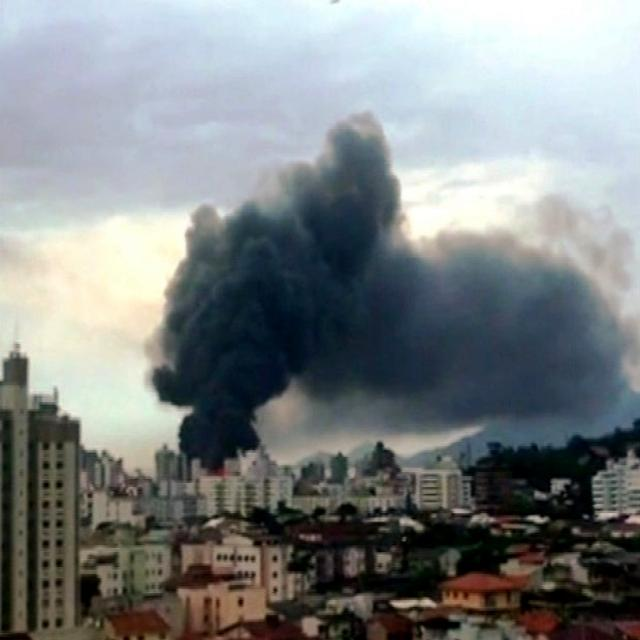Smoke: (153, 132, 399, 446), (370, 198, 631, 462)
